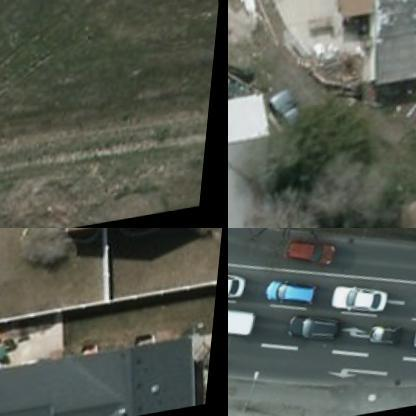car: (266, 82, 328, 157), (334, 280, 396, 327), (278, 236, 344, 280), (285, 310, 346, 356), (264, 278, 324, 318), (368, 322, 405, 358), (228, 268, 255, 304)
van: (228, 299, 265, 349)
